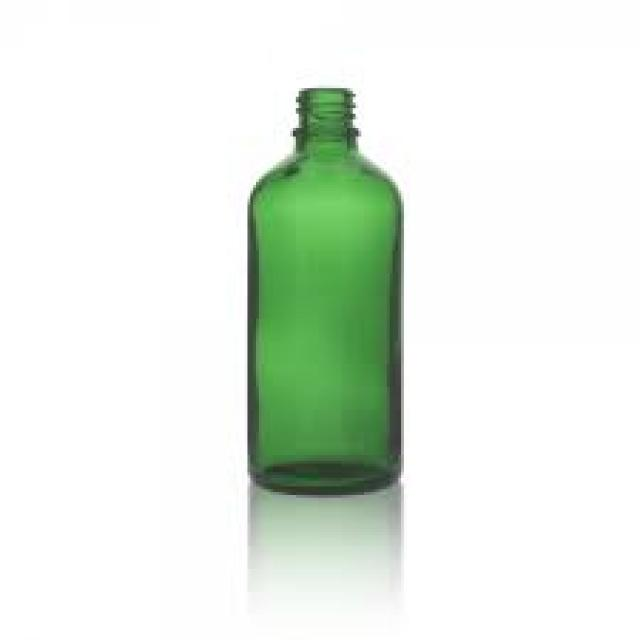glass: (245, 85, 401, 495)
